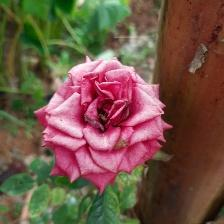rose: (33, 54, 174, 198)
